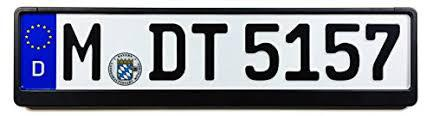1: (285, 22, 320, 81)
5: (324, 22, 361, 82), (243, 22, 280, 82)
7: (365, 22, 401, 81)
D: (147, 20, 187, 83)
M: (62, 22, 103, 82)
T: (189, 20, 231, 82)
